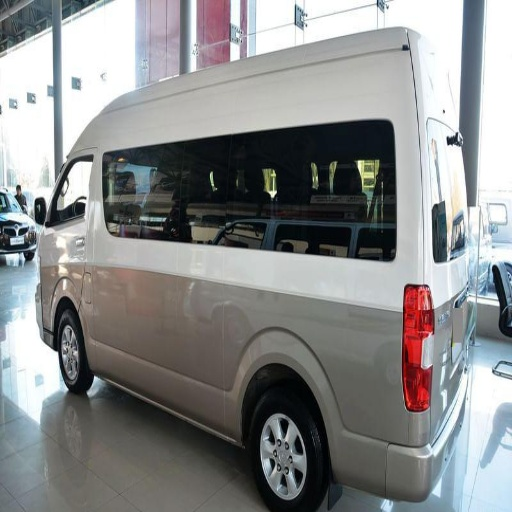back_bumper: (337, 393, 486, 505)
trunk: (61, 241, 457, 457), (337, 74, 401, 121)
